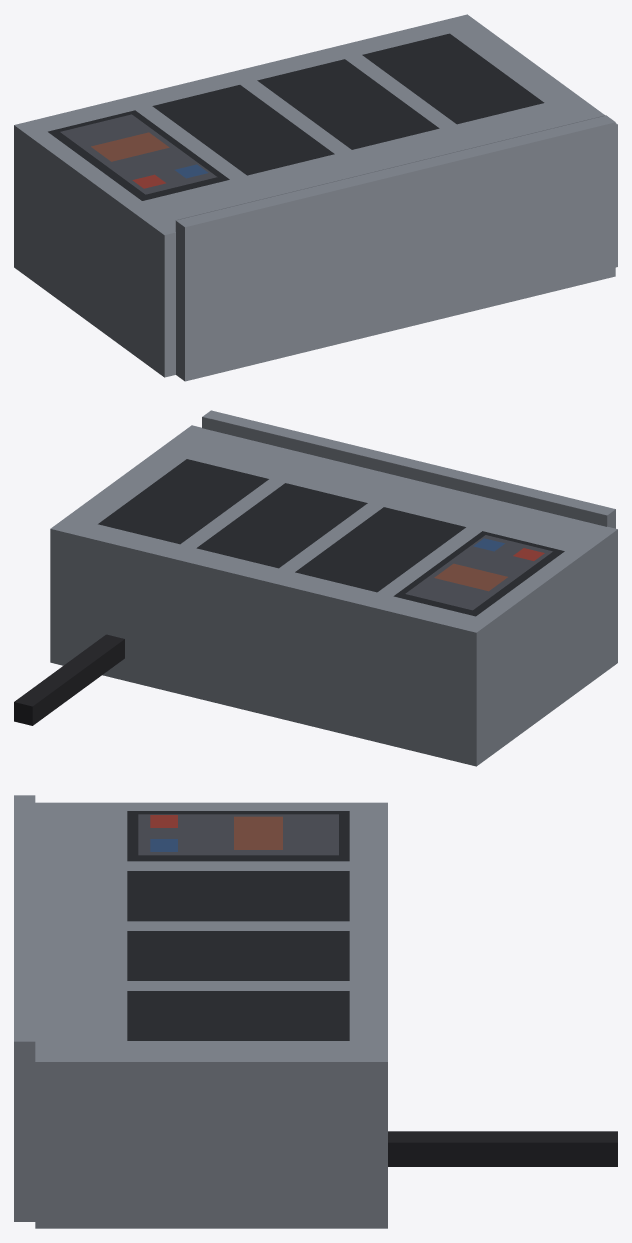
Rendered from bank_wall_premium_c1_S.obj.
3 renders of one model, top to bottom at view 1: azimuth 30°, elevation 25°; view 2: azimuth 150°, elevation 25°; view 3: azimuth 270°, elevation 25°, orthographic. The views are drawn at different scales.
Parts seen in each view (by area): view 1: bank_wall_premium_c1_S; view 2: bank_wall_premium_c1_S; view 3: bank_wall_premium_c1_S.
Boxes of the visible parts, x1,y1,x2,y2 form: bank_wall_premium_c1_S: [14, 14, 617, 381]; bank_wall_premium_c1_S: [14, 410, 617, 766]; bank_wall_premium_c1_S: [14, 795, 617, 1228].
Size of the model in its own units: 0.8 by 0.2635 by 0.788.
Materials: 1 (1 with a texture image).
